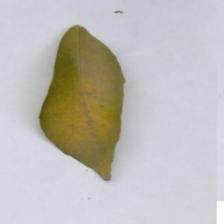greening: (34, 75, 133, 149)
